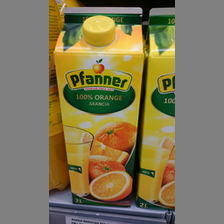juice: (54, 6, 147, 209), (138, 8, 174, 205)
